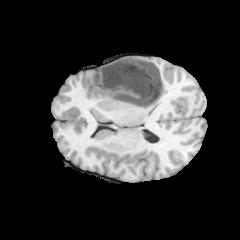glioma: (91, 56, 167, 112)
